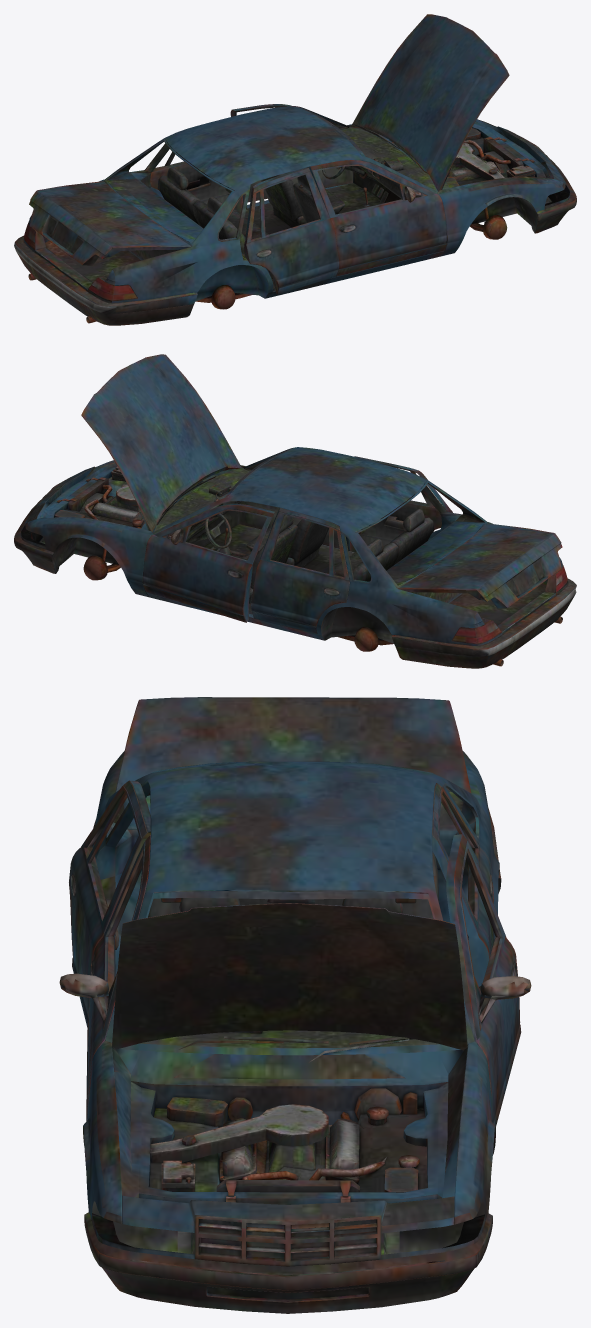
File: wreck_sedan.glb
3 renders of one model, top to bottom at view 1: azimuth 30°, elevation 25°; view 2: azimuth 150°, elevation 25°; view 3: azimuth 270°, elevation 25°, orthographic. The views are drawn at different scales.
Visible parts, largest first — view 1: body, body_Material_001; view 2: body, body_Material_001; view 3: body, body_Material_001.
Part boxes in pixels (x1,y1,x2,y2): body: (23, 104, 570, 323); body_Material_001: (14, 14, 576, 325); body: (20, 447, 567, 666); body_Material_001: (14, 354, 576, 668); body: (59, 751, 531, 1266); body_Material_001: (84, 697, 501, 1313).
Bounding box in the file's own units: 4.7 × 1.61 × 1.92.
2 materials, 2 textured.
